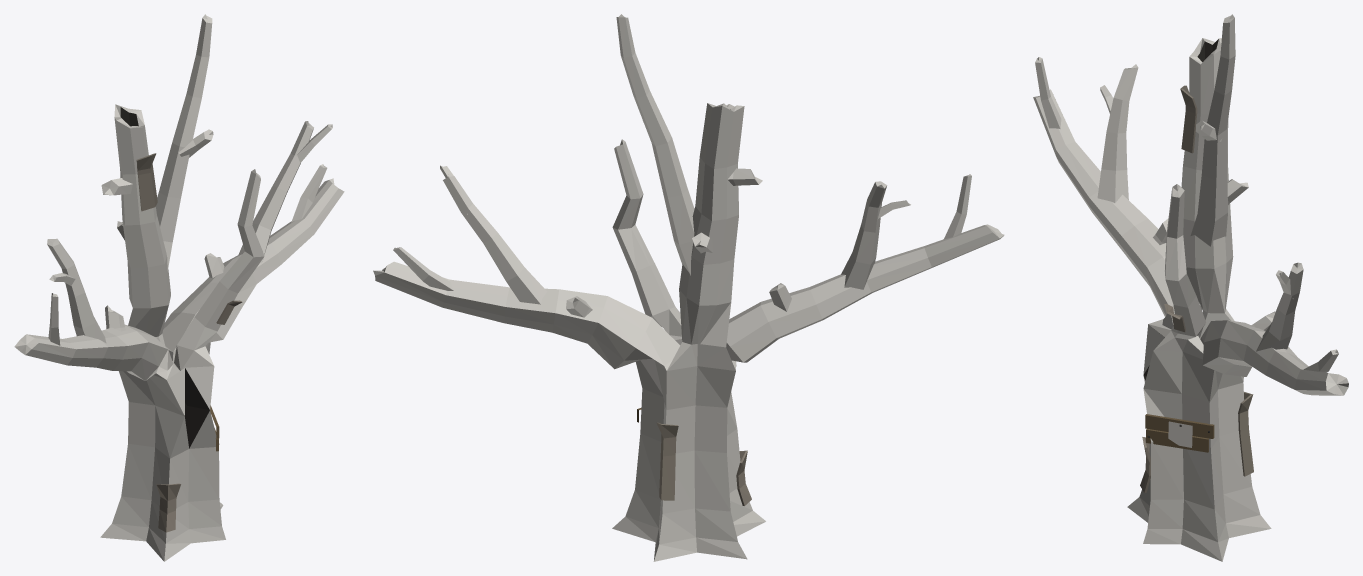
Rendered from dead-cottonwood-edbde8.glb.
The picture shows the model from 3 angles, left to right: view 1: azimuth 30°, elevation 25°; view 2: azimuth 150°, elevation 25°; view 3: azimuth 270°, elevation 25°; orthographic projection. The views are drawn at different scales.
Parts seen in each view (by area): view 1: dead-cottonwood-mesh; view 2: dead-cottonwood-mesh; view 3: dead-cottonwood-mesh, notice-mesh.
Part boxes in pixels (x1,y1,x2,y2): dead-cottonwood-mesh: (14, 14, 344, 561); dead-cottonwood-mesh: (373, 14, 1004, 561); dead-cottonwood-mesh: (1033, 14, 1348, 561); notice-mesh: (1145, 414, 1214, 452).
Bounding box in the file's own units: 6.82 × 7 × 3.71.
